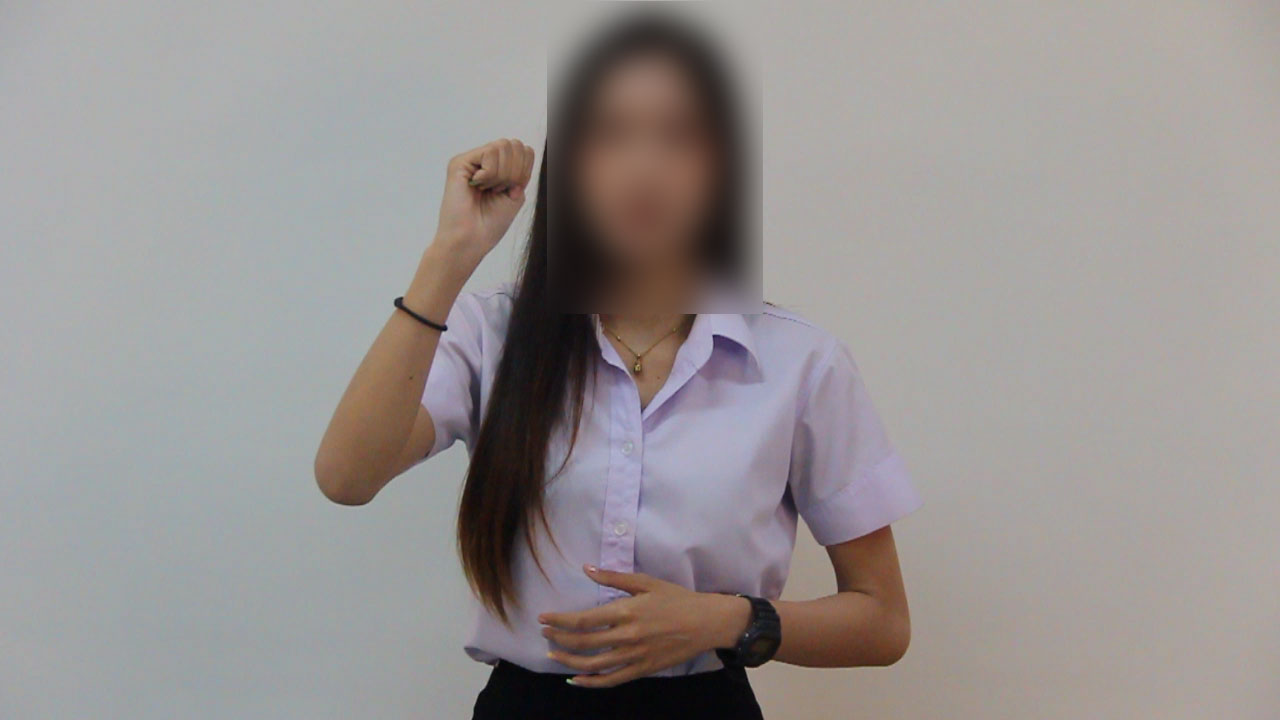sor: (408, 124, 539, 282)
